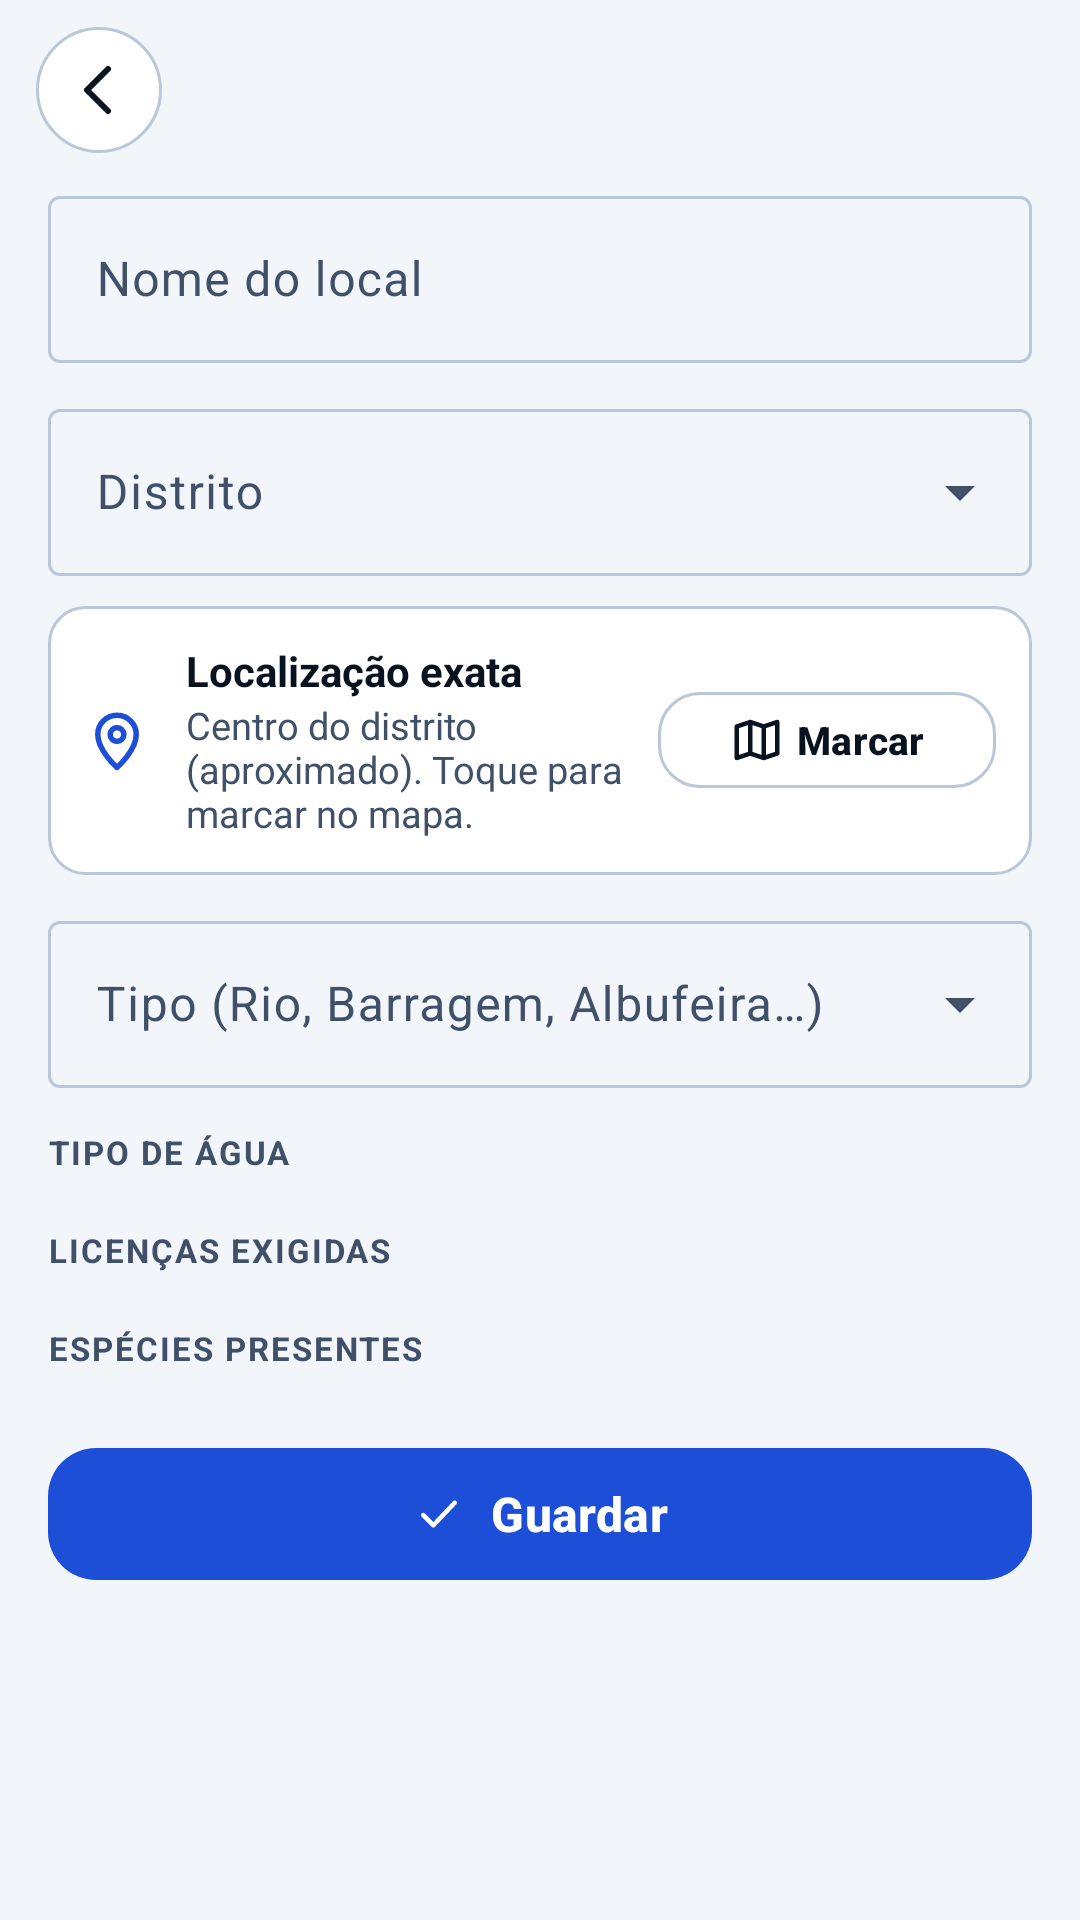

Where icons sit on this 1080px×1920px app screen, as (x1, y1, x2, y2):
pin: (95, 712, 139, 771)
Voltar: (36, 27, 162, 153)
